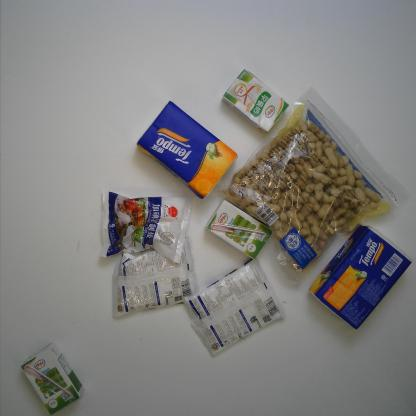Dried Food: (214, 85, 408, 291)
Milk: (20, 342, 84, 416), (221, 67, 291, 134), (204, 198, 273, 261)
Seasoner: (181, 255, 287, 358), (110, 236, 203, 320), (99, 189, 194, 264)
Tissue: (308, 223, 414, 331), (135, 100, 239, 201)
